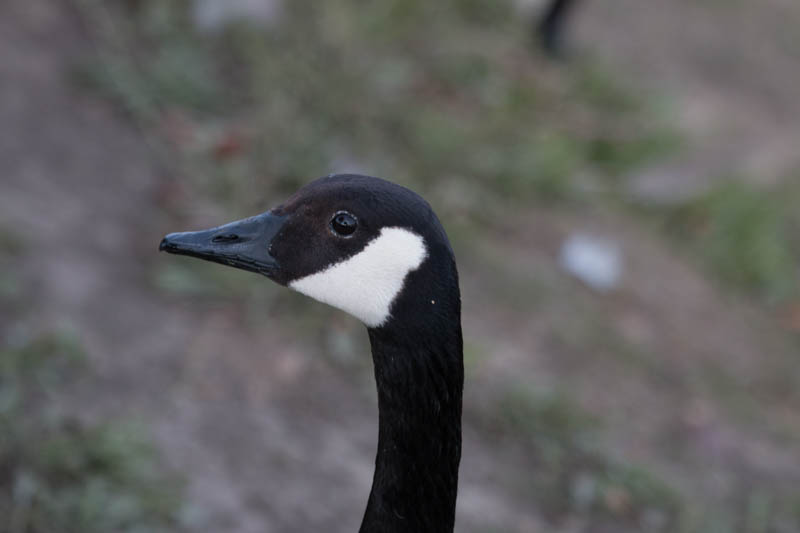goose-head: (158, 175, 462, 329)
